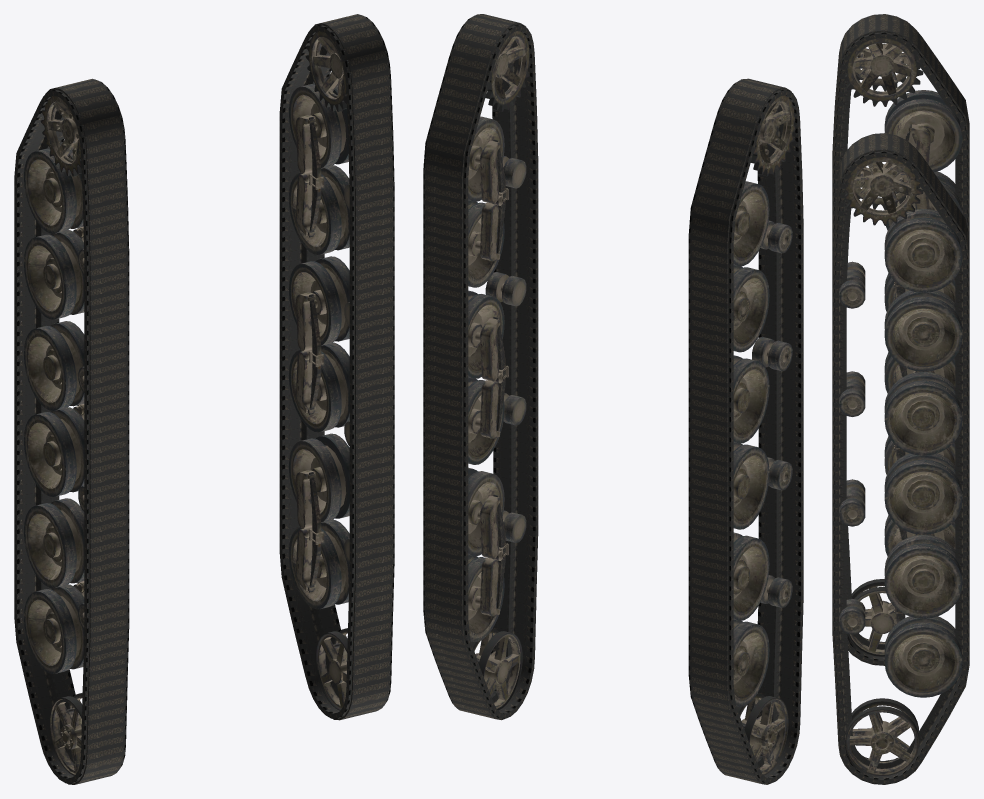
The model's file is Chassis.glb.
3 views of the same model, side by side, from view 1: azimuth 30°, elevation 25°; view 2: azimuth 150°, elevation 25°; view 3: azimuth 270°, elevation 25° (orthographic). The views are drawn at different scales.
Visible parts, largest first — view 1: set_0_group_0, set_1_group_0, set_3_group_0, set_2_group_0; view 2: set_0_group_0, set_1_group_0, set_3_group_0, set_2_group_0; view 3: set_3_group_0, set_1_group_0, set_2_group_0, set_0_group_0.
Part boxes in pixels (bbox=[...]): set_0_group_0: bbox=[14, 78, 129, 784]; set_1_group_0: bbox=[279, 14, 394, 720]; set_3_group_0: bbox=[288, 17, 389, 710]; set_2_group_0: bbox=[24, 81, 124, 775]; set_0_group_0: bbox=[688, 78, 803, 784]; set_1_group_0: bbox=[423, 14, 538, 720]; set_3_group_0: bbox=[451, 18, 530, 710]; set_2_group_0: bbox=[716, 79, 795, 775]; set_3_group_0: bbox=[839, 150, 962, 775]; set_1_group_0: bbox=[832, 133, 969, 784]; set_2_group_0: bbox=[840, 31, 962, 656]; set_0_group_0: bbox=[832, 14, 969, 665].
Size of the model in its own units: 2.92 by 6.26 by 1.23.
Materials: 4 (4 with a texture image).
